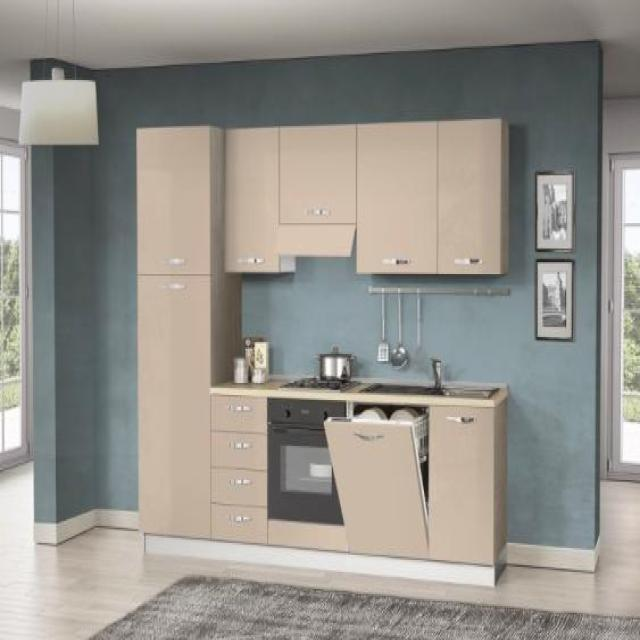dishwasher: (323, 400, 426, 562)
